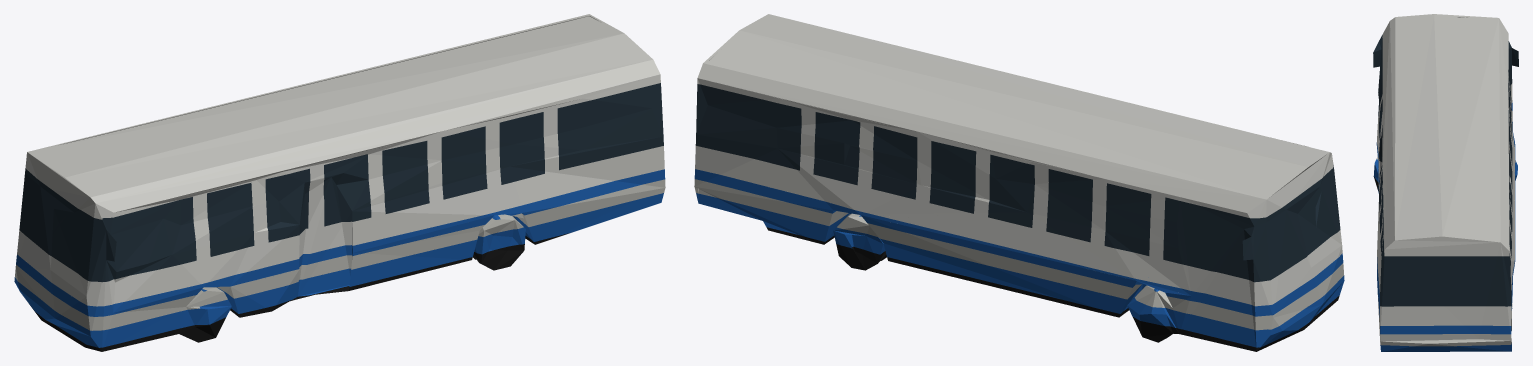
The model's file is onibus.glb.
3 renders of one model, left to right at view 1: azimuth 30°, elevation 25°; view 2: azimuth 150°, elevation 25°; view 3: azimuth 270°, elevation 25°, orthographic. The views are drawn at different scales.
Visible parts, largest first — view 1: detail, body; view 2: detail, body; view 3: detail, body.
Boxes of the visible parts, <box> form: detail: <box>15,14,665,351</box>; body: <box>14,169,665,347</box>; detail: <box>694,14,1343,351</box>; body: <box>694,169,1344,347</box>; detail: <box>1373,14,1518,346</box>; body: <box>1374,102,1517,351</box>.
Bounding box in the file's own units: 4.97 × 1.38 × 1.32.
